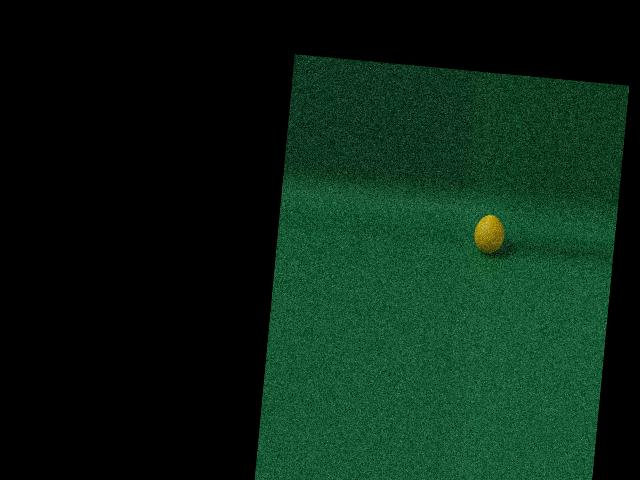egg: (471, 213, 504, 255)
